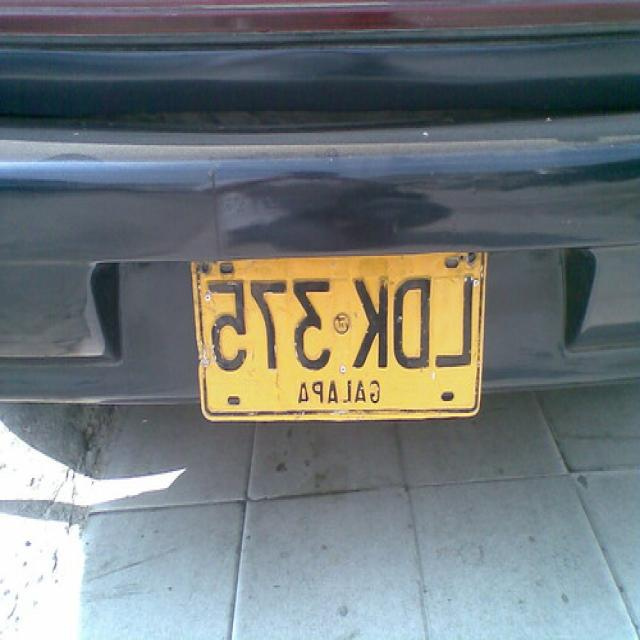placas: (193, 246, 483, 375)
